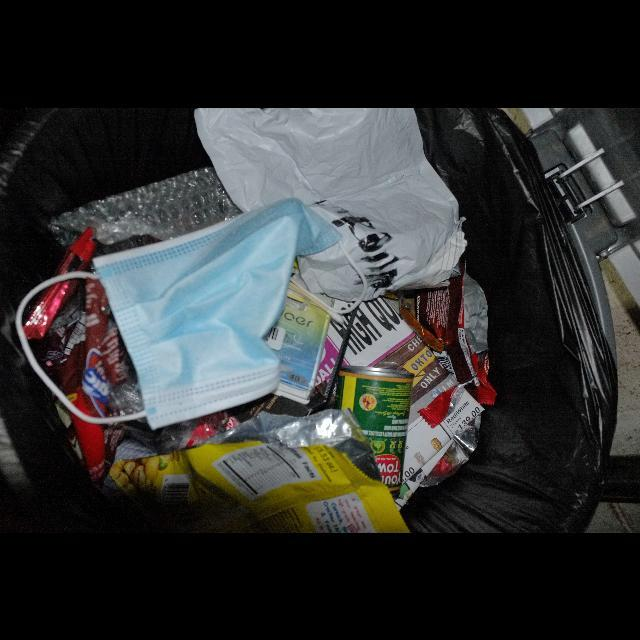aluminum: (333, 365, 414, 490)
food_wrapper: (109, 407, 410, 532), (16, 227, 146, 485), (381, 253, 497, 427)
plastic_bag: (194, 107, 468, 300)
